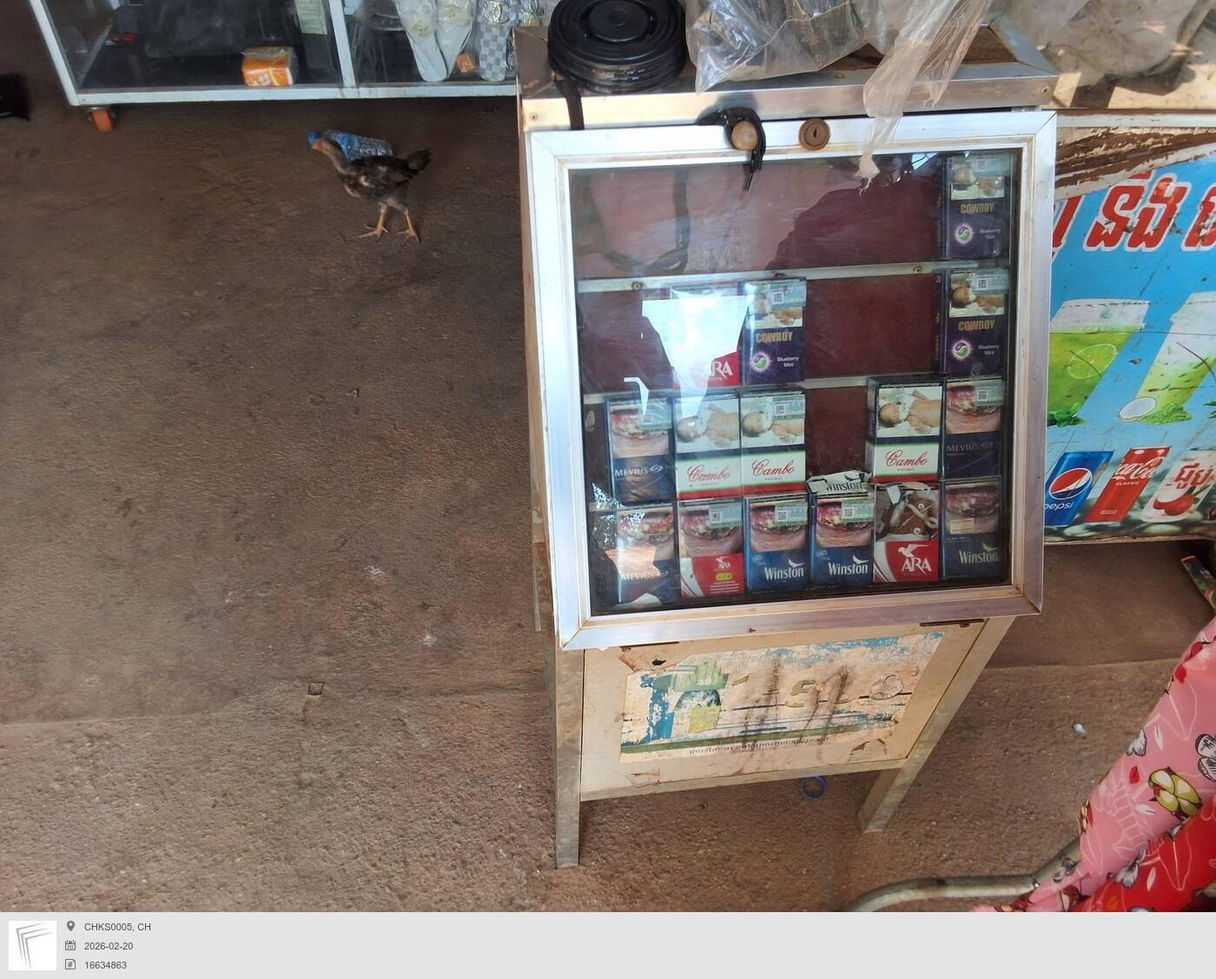cigarette_pack: (594, 396, 670, 505), (870, 483, 944, 593), (954, 148, 1017, 266), (679, 283, 742, 392), (937, 480, 1003, 584), (677, 504, 744, 604), (674, 400, 746, 493), (872, 380, 939, 475), (747, 283, 808, 387), (604, 519, 677, 604), (946, 280, 1008, 380), (747, 498, 810, 596), (949, 382, 1010, 477), (814, 499, 871, 593), (742, 401, 798, 483)
